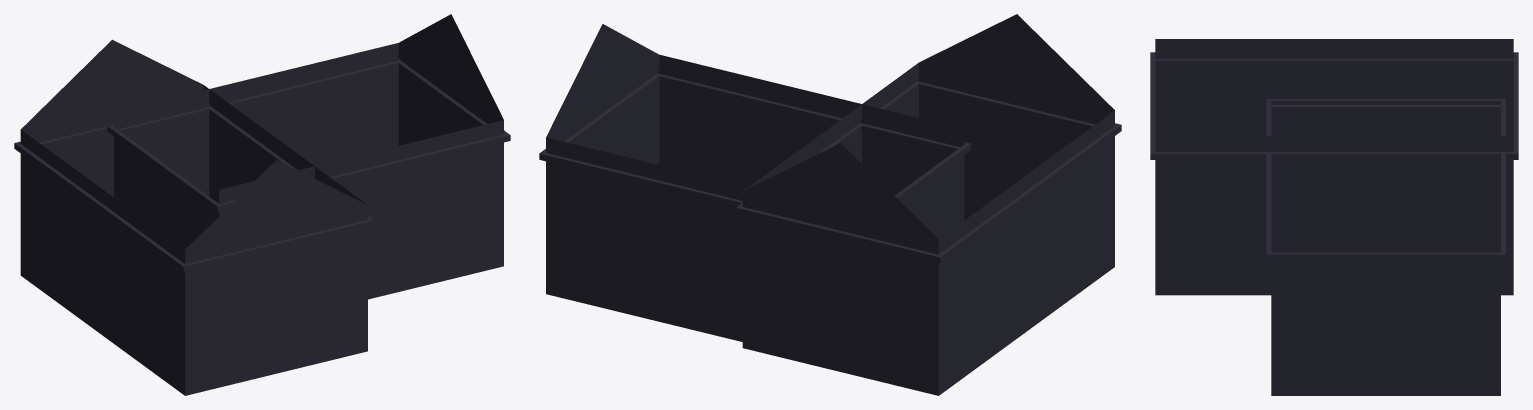
Rendered from Burned_Regular_House2.fbx.
The picture shows the model from 3 angles, left to right: view 1: azimuth 30°, elevation 25°; view 2: azimuth 150°, elevation 25°; view 3: azimuth 270°, elevation 25°; orthographic projection. The views are drawn at different scales.
Parts seen in each view (by area): view 1: Cube.050; view 2: Cube.050; view 3: Cube.050.
Boxes of the visible parts, left/top/right/bottom form: Cube.050: left=14, top=14, right=510, bottom=395; Cube.050: left=539, top=14, right=1121, bottom=395; Cube.050: left=1150, top=39, right=1518, bottom=395.
Bounding box in the file's own units: 1950 × 1047 × 1503.
